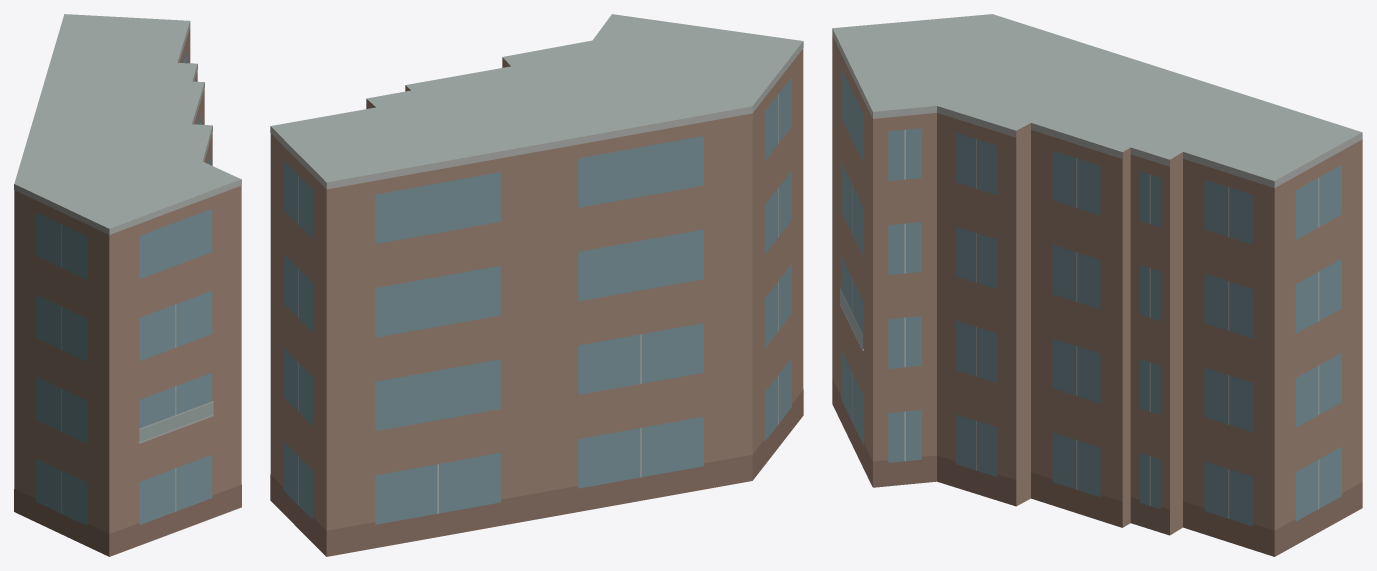
File: survey-upis-33026390.glb
3 views of the same model, side by side, from view 1: azimuth 30°, elevation 25°; view 2: azimuth 150°, elevation 25°; view 3: azimuth 270°, elevation 25° (orthographic). The views are drawn at different scales.
Parts seen in each view (by area): view 1: survey-upis-33026390.tmp; view 2: survey-upis-33026390.tmp; view 3: survey-upis-33026390.tmp.
Boxes of the visible parts, x1,y1,x2,y2 form: survey-upis-33026390.tmp: (14, 14, 241, 556); survey-upis-33026390.tmp: (270, 14, 803, 556); survey-upis-33026390.tmp: (832, 14, 1362, 556).
Size of the model in its own units: 12.62 by 13.21 by 16.91.
